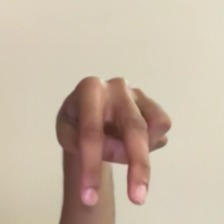N: (32, 64, 190, 217)
